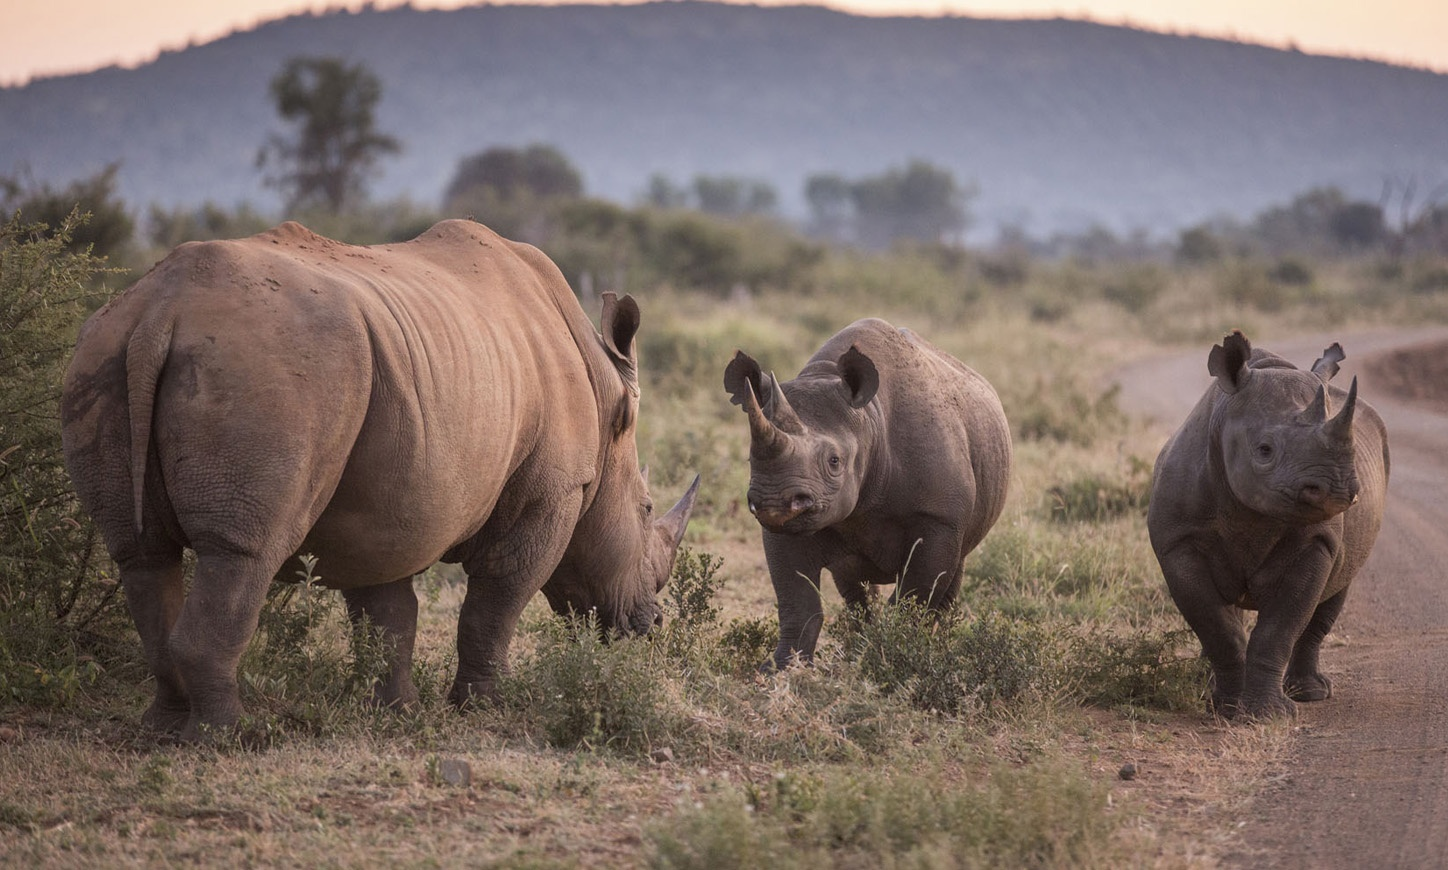rhino: (54, 213, 702, 754), (725, 318, 1010, 666), (1142, 331, 1391, 719)
